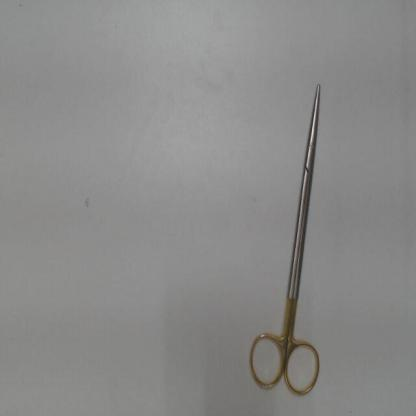7 Metzenbaum Scissors: (246, 80, 325, 403)
